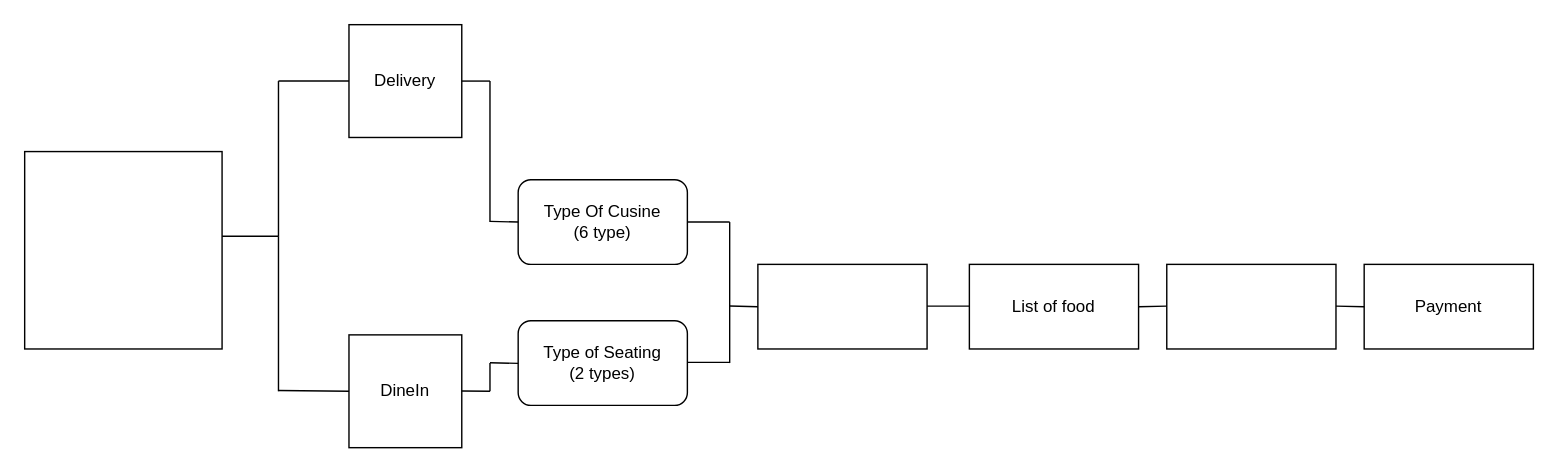
Image size: 1558x472. Some labels were removed from this diagram. Here are the shapes that lost their labels. From the top down, the box of each, then its label:
(23, 150, 222, 349): User
(756, 263, 927, 349): List of restaurants
(1165, 263, 1336, 349): Food Cart
